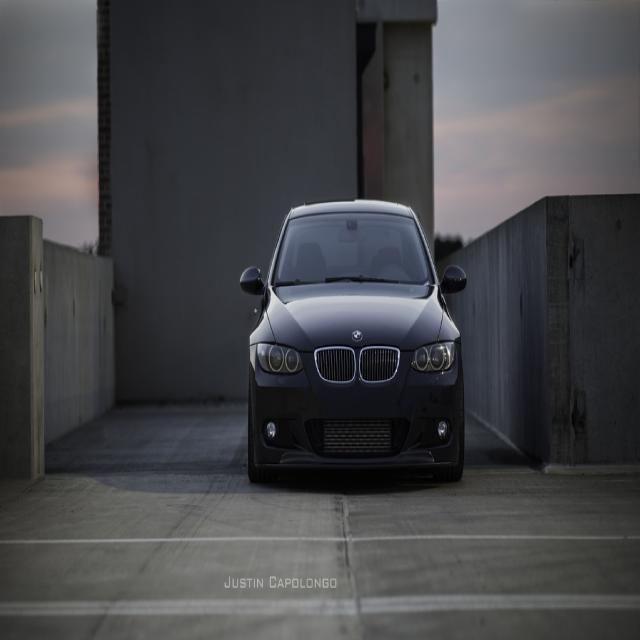car: (240, 195, 467, 478)
